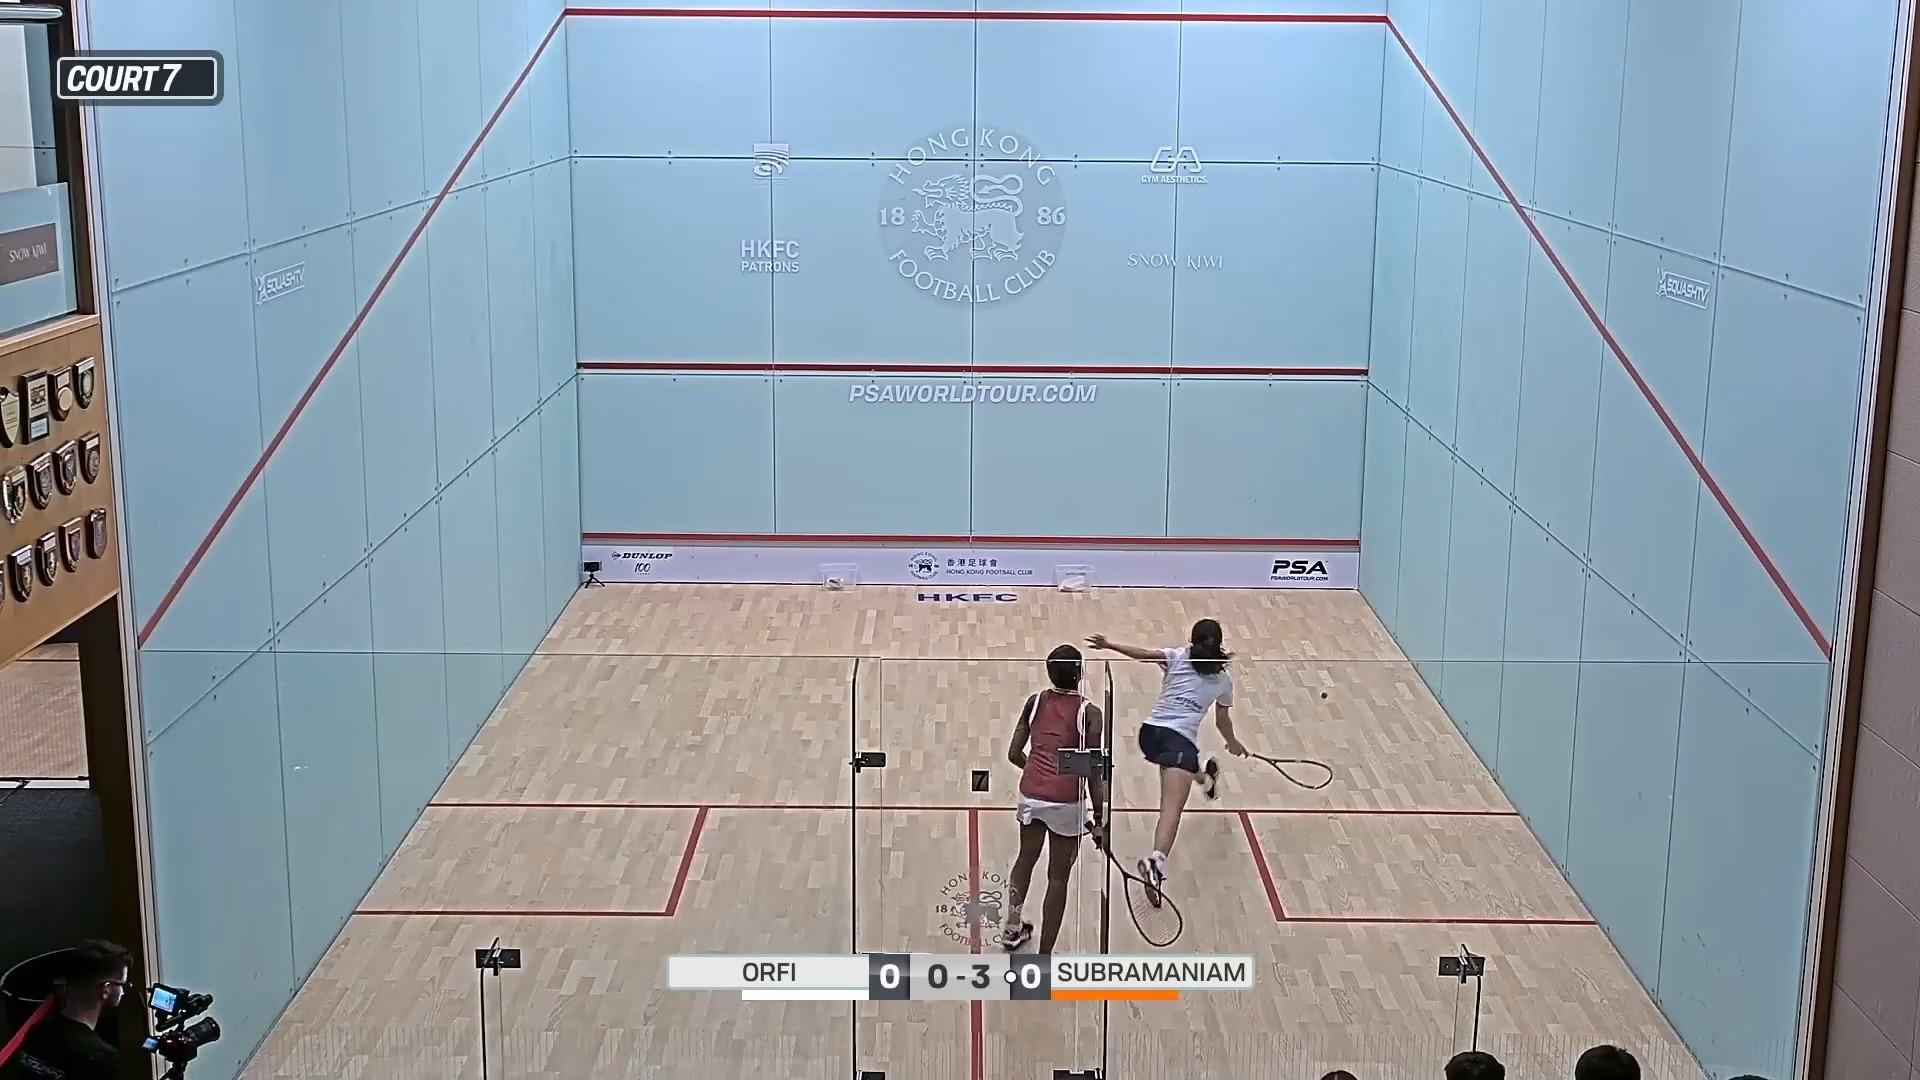Squash-Ball: (1313, 683, 1337, 708)
